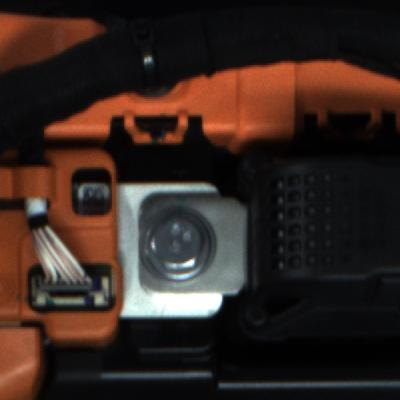nut_b: (136, 205, 215, 287)
